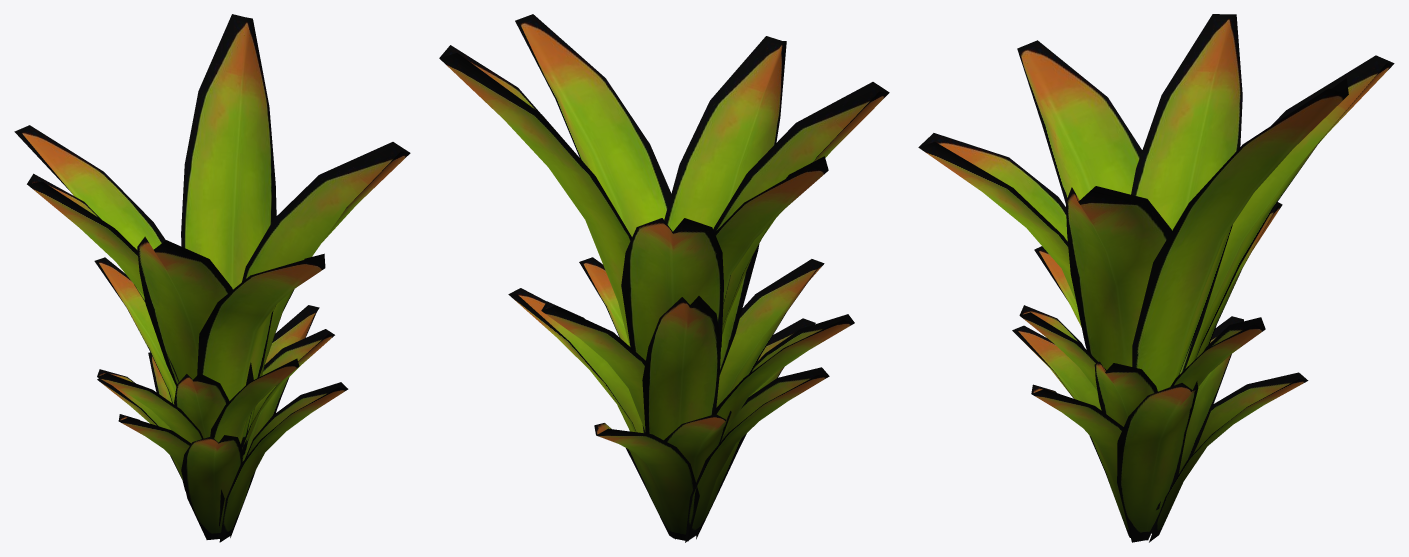
File: plant_1_big.gltf
3 renders of one model, left to right at view 1: azimuth 30°, elevation 25°; view 2: azimuth 150°, elevation 25°; view 3: azimuth 270°, elevation 25°, orthographic. The views are drawn at different scales.
Visible parts, largest first — view 1: Plant_1_Big; view 2: Plant_1_Big; view 3: Plant_1_Big.
Part boxes in pixels (x1,y1,x2,y2): Plant_1_Big: (14, 14, 410, 542); Plant_1_Big: (439, 14, 889, 542); Plant_1_Big: (918, 14, 1394, 542).
Size of the model in its own units: 1.81 by 2.35 by 1.95.
1 material, 1 textured.
